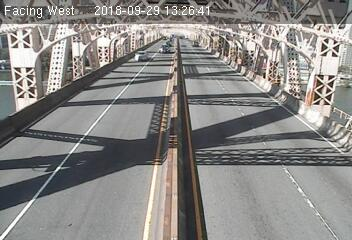car: (132, 50, 150, 64), (157, 45, 172, 55), (165, 37, 174, 46), (191, 40, 199, 47)
